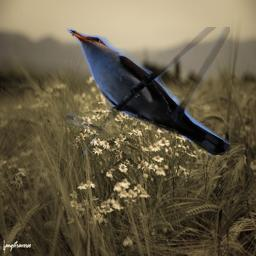Cuckoo: (66, 27, 230, 155)
